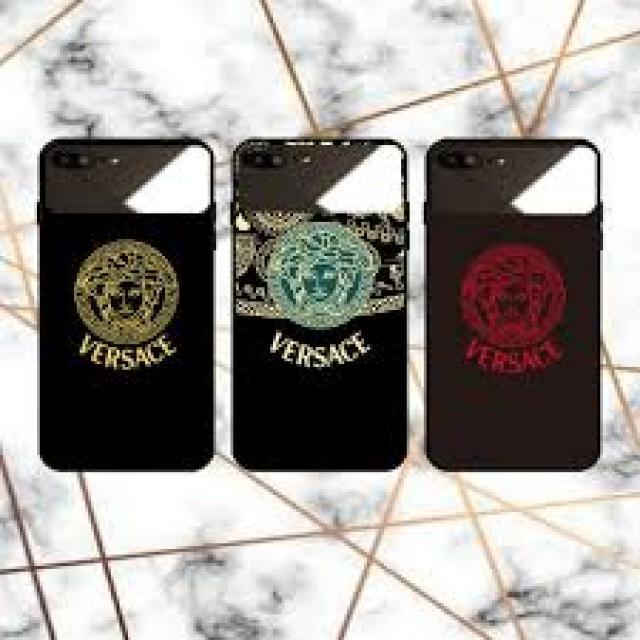Phone: (226, 136, 412, 477), (32, 136, 215, 476), (422, 134, 606, 472)
